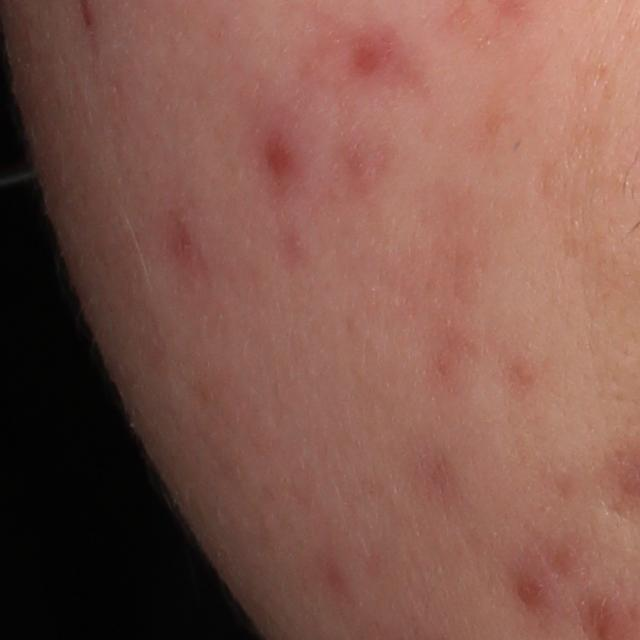papule: (512, 571, 550, 613)
